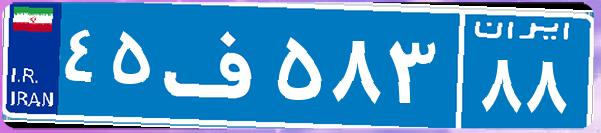3: (385, 28, 445, 110)
4: (57, 26, 110, 107)
5: (273, 28, 330, 110), (110, 28, 158, 105)
8: (330, 28, 385, 110), (475, 38, 525, 113), (525, 38, 570, 115)
ف: (158, 15, 273, 115)
